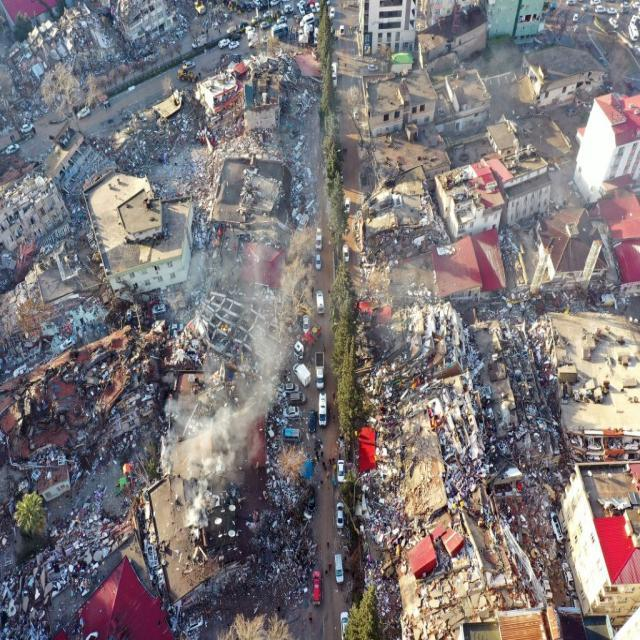Rubble: (374, 519, 530, 617), (362, 405, 480, 503), (190, 280, 292, 382), (228, 472, 308, 593), (7, 376, 82, 500), (358, 312, 468, 390), (482, 390, 574, 480), (473, 308, 572, 390), (88, 341, 162, 446), (362, 186, 450, 264), (30, 531, 100, 625), (490, 478, 566, 556), (250, 51, 309, 135), (12, 176, 69, 260), (57, 5, 119, 80), (8, 28, 54, 118), (189, 172, 232, 262), (52, 129, 114, 191), (512, 265, 610, 303), (160, 570, 227, 624), (202, 80, 246, 162), (173, 394, 241, 440), (130, 110, 196, 156), (8, 282, 54, 345), (126, 6, 184, 54), (205, 74, 248, 138)
